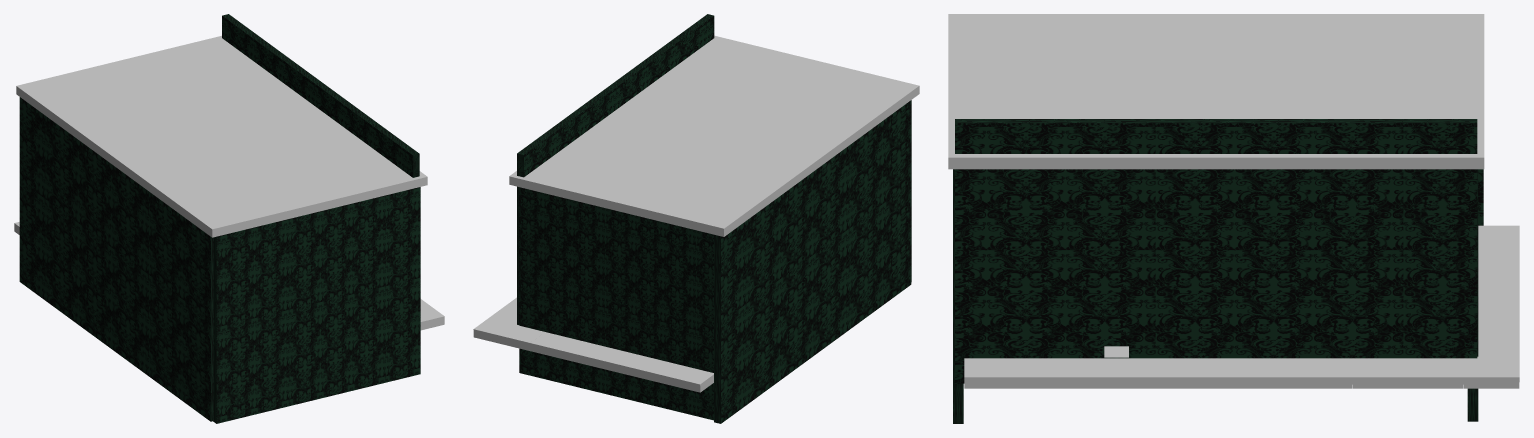
The model's file is FinalBoxMap.fbx.
The picture shows the model from 3 angles, left to right: view 1: azimuth 30°, elevation 25°; view 2: azimuth 150°, elevation 25°; view 3: azimuth 270°, elevation 25°; orthographic projection. The views are drawn at different scales.
Visible parts, largest first — view 1: pCube7, pCube4, pCube23, pCube8, pCube33; view 2: pCube7, pCube23, pCube5, pCube8, pCube33; view 3: pCube8, pCube7, pCube33, pCube4, pCube5.
Boxes of the visible parts, x1,y1,x2,y2 form: pCube7: (16,35,427,237); pCube4: (213,187,420,423); pCube23: (19,97,213,421); pCube8: (222,14,419,177); pCube33: (14,222,444,330); pCube7: (509,35,919,236); pCube23: (714,100,911,423); pCube5: (519,187,713,420); pCube8: (517,14,714,324); pCube33: (473,297,713,392); pCube8: (955,119,1477,383); pCube7: (948,14,1484,169); pCube33: (964,225,1519,388); pCube4: (953,169,963,423); pCube5: (1467,169,1478,421).
Bounding box in the file's own units: 16.27 × 14.34 × 24.72.
